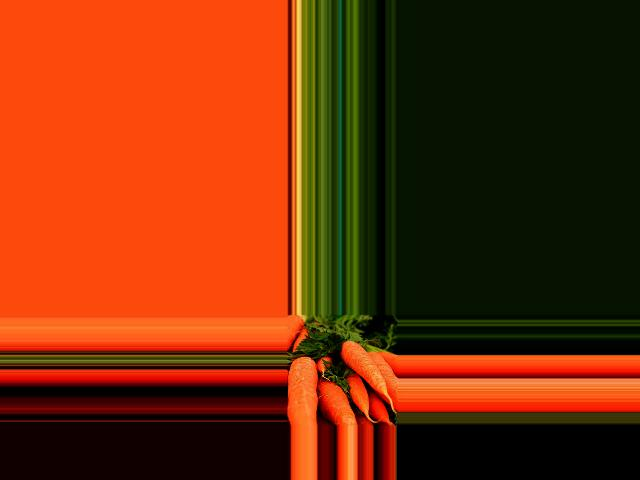carrot: (287, 353, 322, 425)
